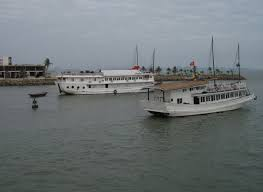tau_dansu: (151, 75, 256, 120), (66, 67, 152, 95)
